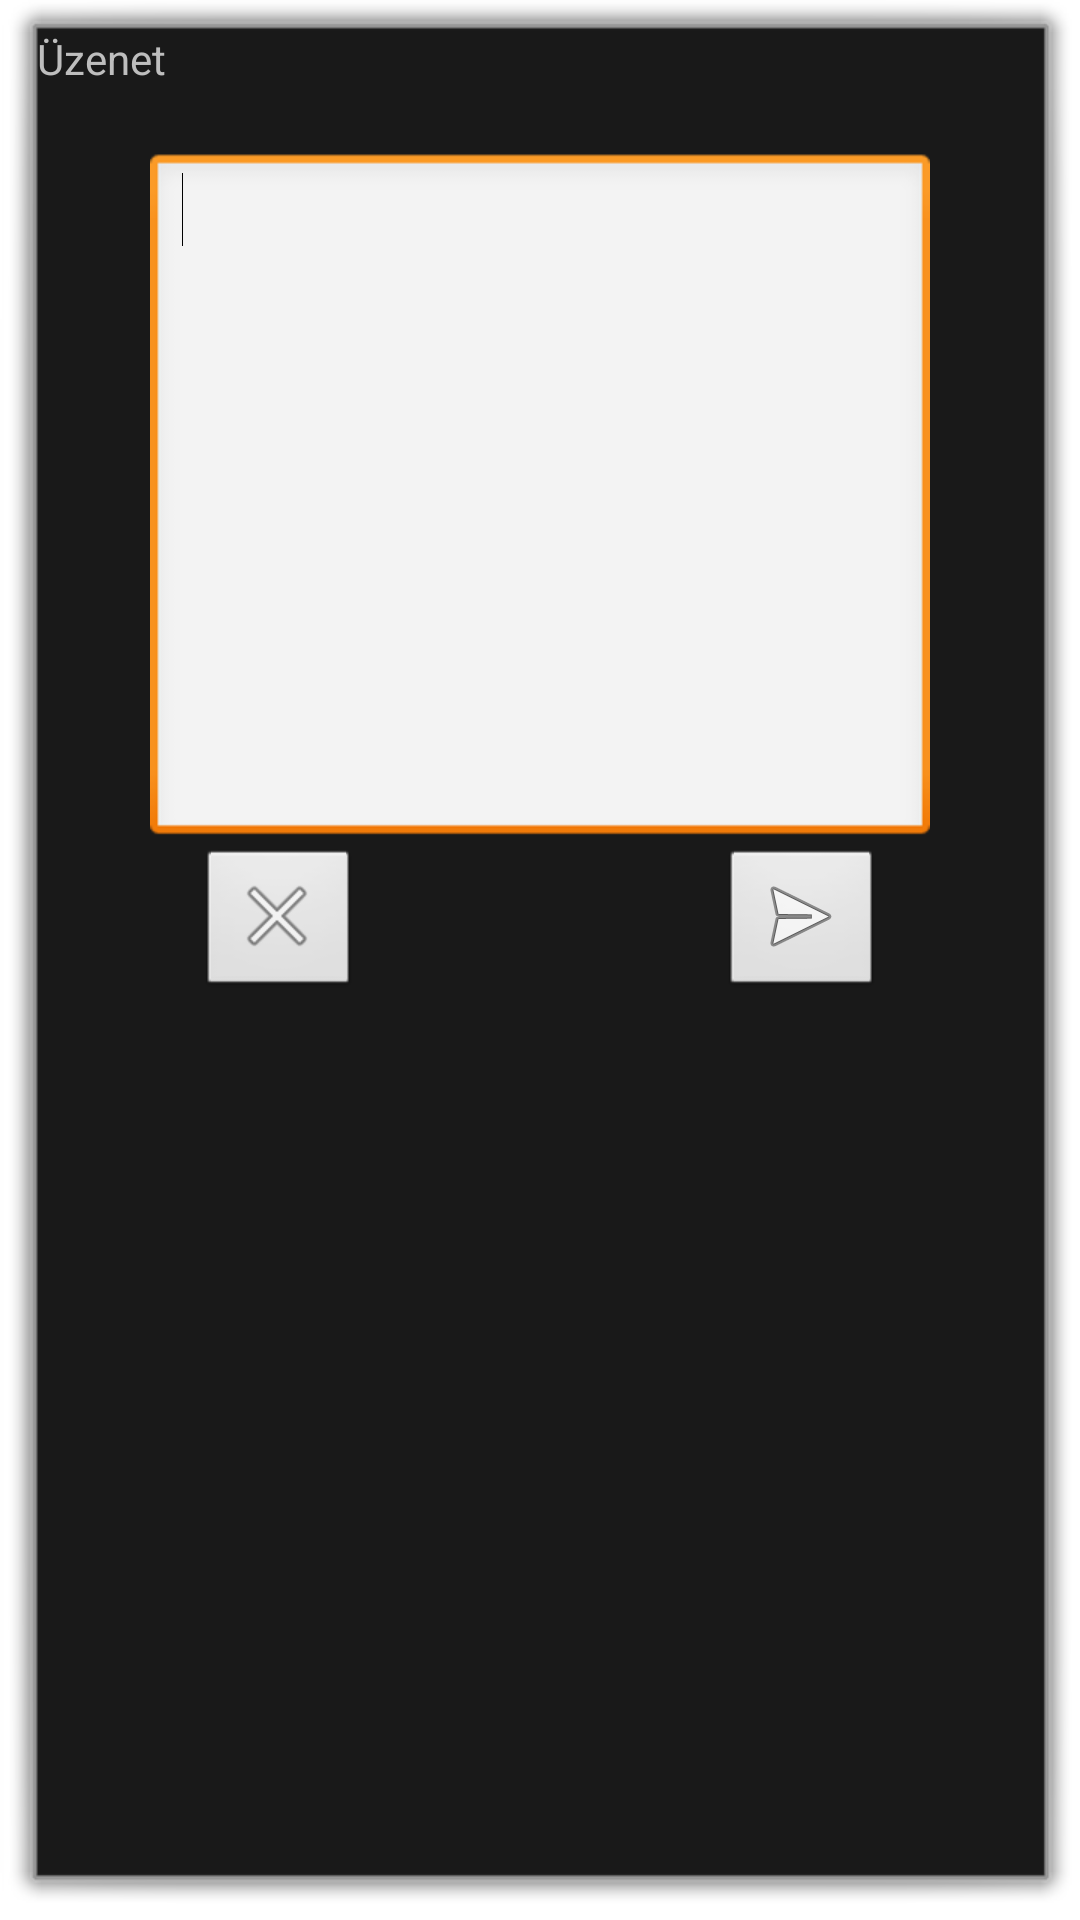

Screen size 1080*1920. Icon name, then its center in pixels as (x=x, y=y):
Kilép: (x=240, y=893)
